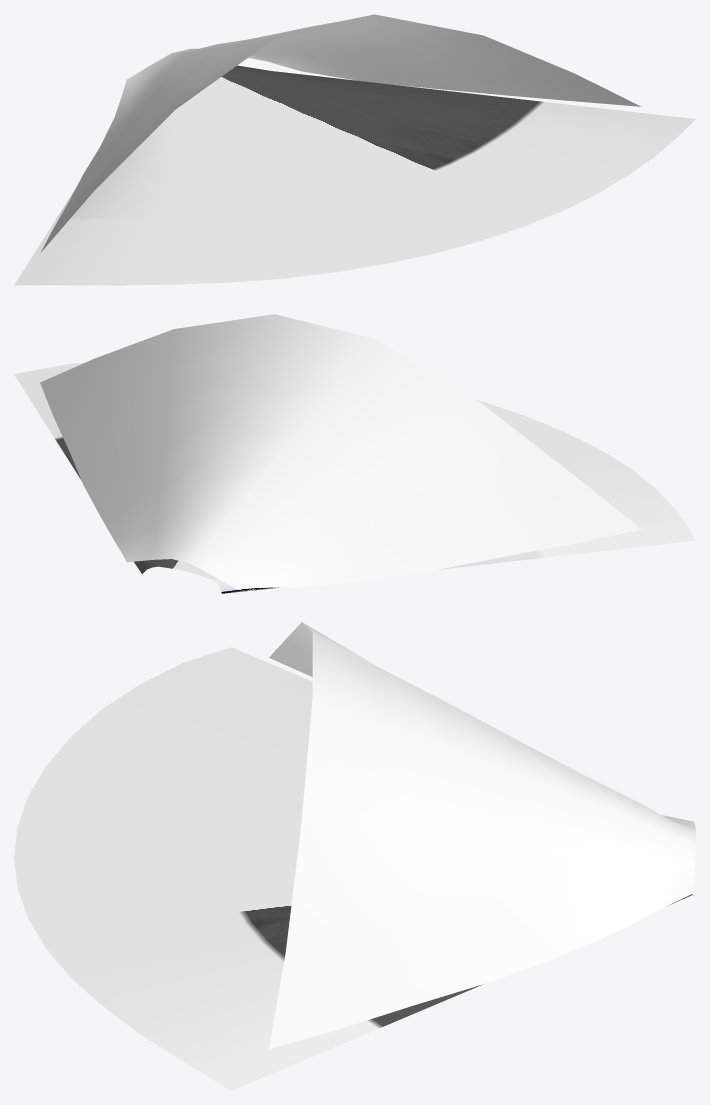
File: VFX_Knockback.fbx
The picture shows the model from 3 angles, top to bottom: view 1: azimuth 30°, elevation 25°; view 2: azimuth 150°, elevation 25°; view 3: azimuth 270°, elevation 25°; orthographic projection. The views are drawn at different scales.
Visible parts, largest first — view 1: vfx_Knockback; view 2: vfx_Knockback; view 3: vfx_Knockback.
Boxes of the visible parts, <box> form: vfx_Knockback: <box>14,14,695,285</box>; vfx_Knockback: <box>14,314,695,593</box>; vfx_Knockback: <box>14,622,695,1090</box>.
Bounding box in the file's own units: 2263 × 491 × 1470.
